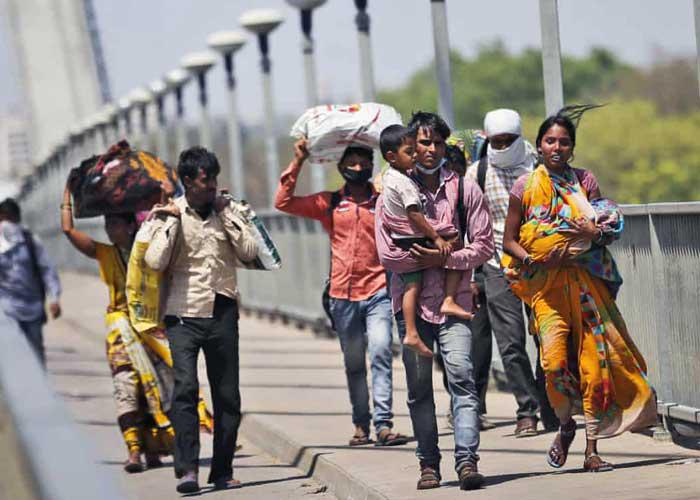with_mask: (475, 95, 527, 176), (335, 135, 377, 201)
without_mask: (531, 108, 589, 177), (167, 145, 220, 206), (408, 122, 456, 177), (375, 125, 419, 175)
